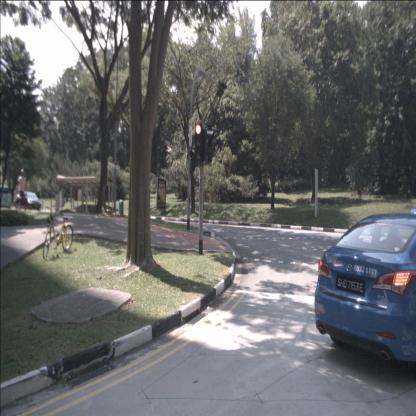human-pedestrian-adult: (15, 169, 28, 213)
vehicle-bicycle: (42, 204, 74, 260)
vehicle-car: (314, 212, 416, 369), (13, 191, 42, 212)
